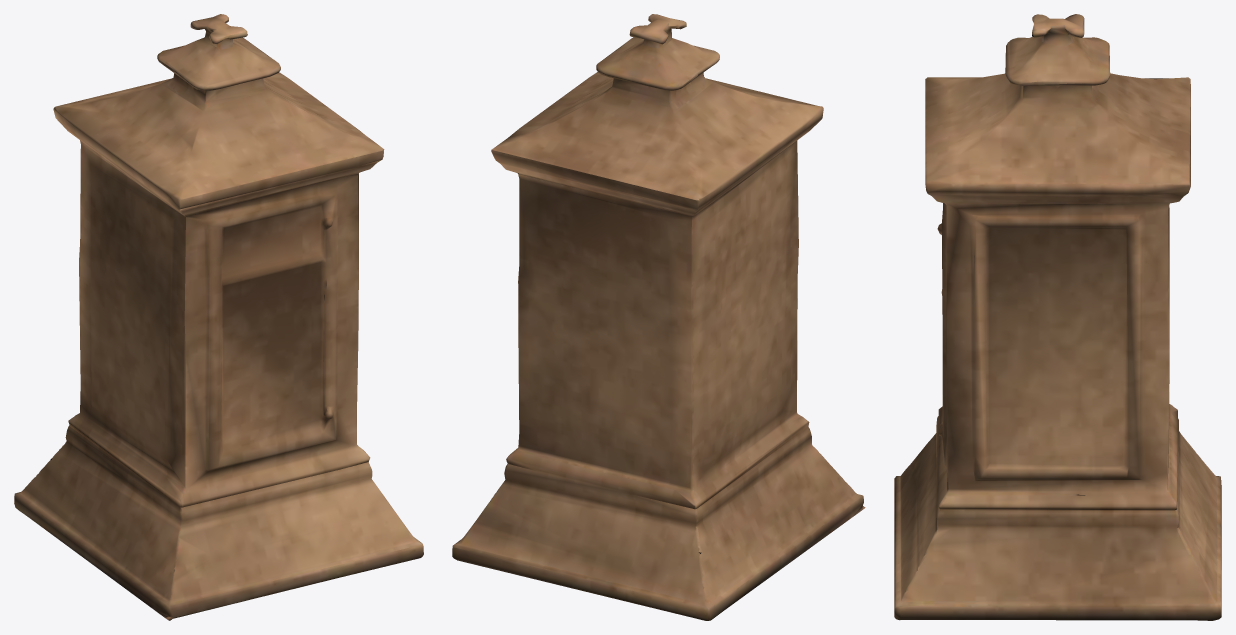
Rendered from ancient-sandstone-lantern-v001.glb.
3 renders of one model, left to right at view 1: azimuth 30°, elevation 25°; view 2: azimuth 150°, elevation 25°; view 3: azimuth 270°, elevation 25°, orthographic. The views are drawn at different scales.
Parts seen in each view (by area): view 1: ancient-sandstone-lantern; view 2: ancient-sandstone-lantern; view 3: ancient-sandstone-lantern.
Boxes of the visible parts, left/top/right/bottom form: ancient-sandstone-lantern: left=14, top=14, right=423, bottom=620; ancient-sandstone-lantern: left=452, top=14, right=865, bottom=620; ancient-sandstone-lantern: left=894, top=14, right=1221, bottom=620.
Size of the model in its own units: 0.4589 by 0.8694 by 0.4812.
1 material, 1 textured.
